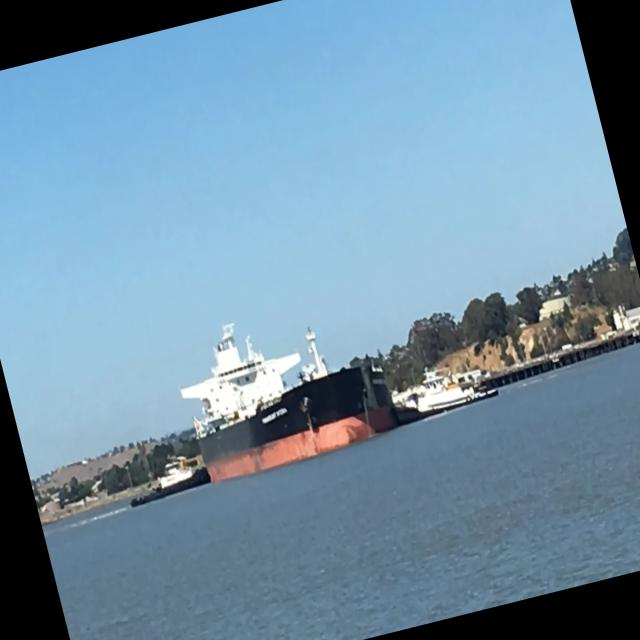Tanker: (181, 326, 398, 482)
Tug: (393, 370, 498, 423), (130, 457, 209, 507)
